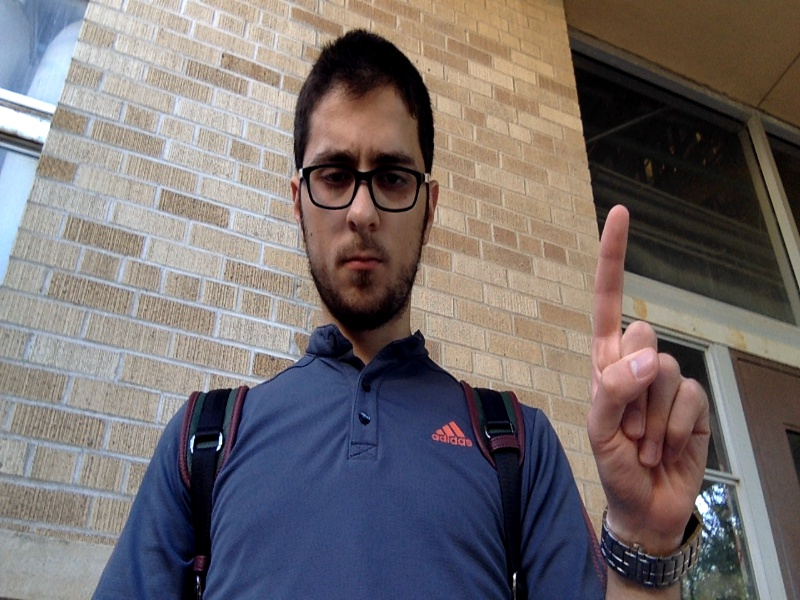1-hand: (592, 205, 708, 545)
